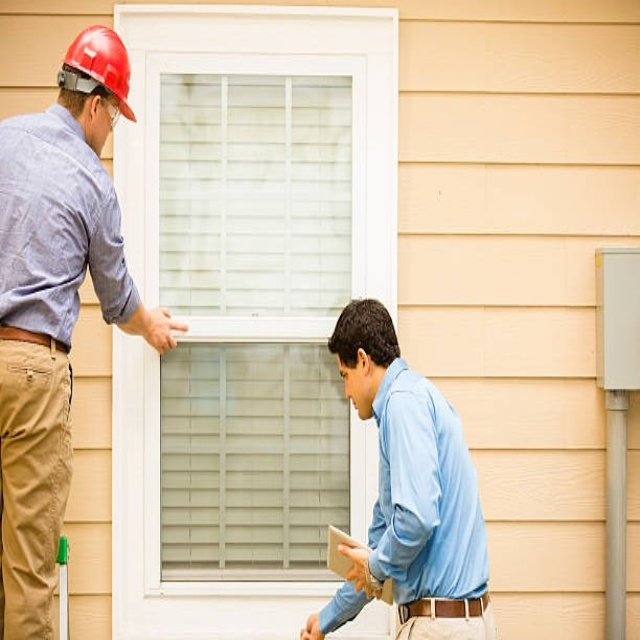Gafas: (99, 94, 121, 132)
Sin_gafas: (336, 358, 364, 383)
Sin_guantes: (145, 301, 189, 359), (336, 541, 377, 597), (300, 611, 326, 640)
Sin_mascara: (345, 387, 370, 425)
